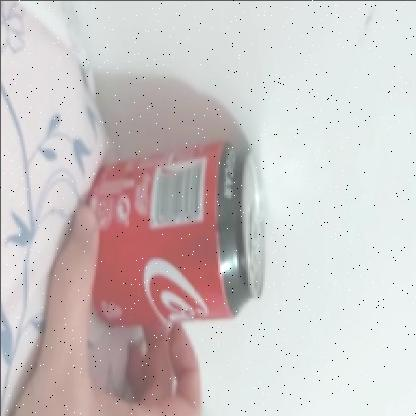Can: (86, 138, 266, 328)
